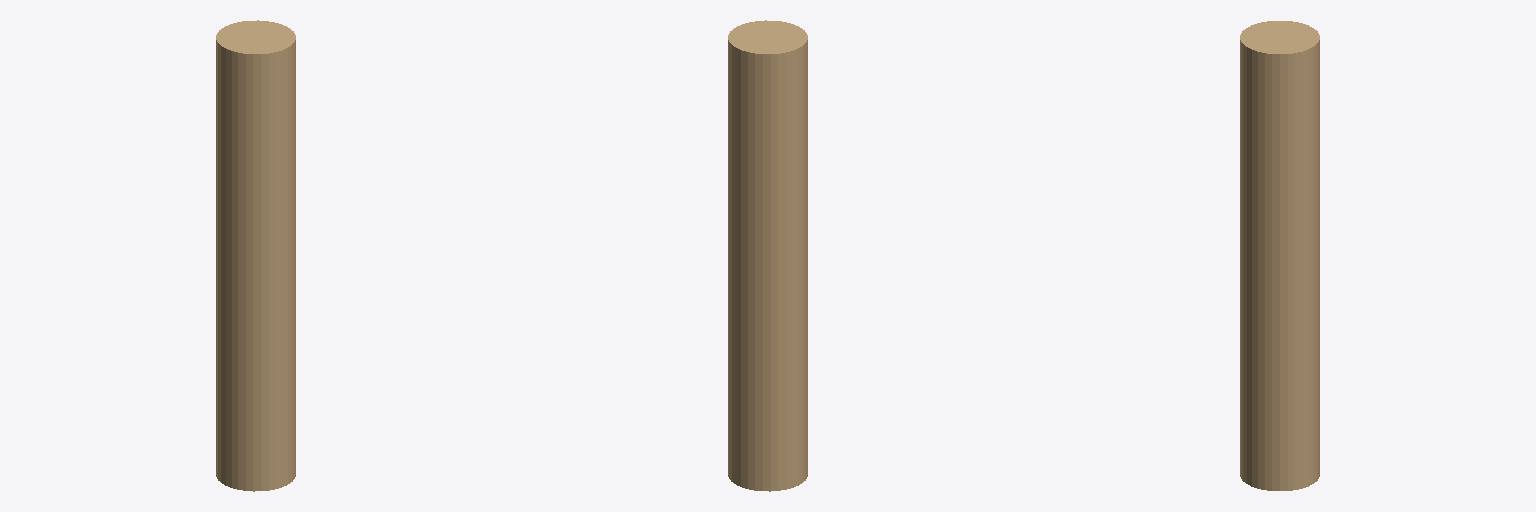
robot.urdf — floating_gripper:
<?xml version="1.0"?>
<robot name="floating_gripper">

  <link name="root"/>

  <link name="dummy_x">
    <inertial>
      <mass value="0.001"/>
      <inertia ixx="1e-6" iyy="1e-6" izz="1e-6"
               ixy="0.0"   ixz="0.0"   iyz="0.0"/>
    </inertial>
  </link>

  <joint name="joint_x" type="prismatic">
    <parent link="root"/>
    <child link="dummy_x"/>
    <axis xyz="1 0 0"/>
    <limit lower="-0.5" upper="0.5" effort="1000" velocity="10"/>
  </joint>

  <link name="gripper">
    <inertial>
      <mass value="2.0"/>
      <inertia ixx="5.0" iyy="5.0" izz="5.0"
               ixy="0.0"   ixz="0.0"   iyz="0.0"/>
    </inertial>
    <visual>
      <origin xyz="0 0 0" rpy="0 0 0"/>
      <geometry>
        <mesh filename="floating_gripper_cylinder.stl"/>
      </geometry>
      <material name="tan">
        <color rgba="0.82 0.71 0.55 1.0"/>
      </material>
    </visual>
    <collision>
      <origin xyz="0 0 0" rpy="0 0 0"/>
      <geometry>
        <mesh filename="floating_gripper_cylinder.stl"/>
      </geometry>
    </collision>
  </link>

  <joint name="joint_y" type="prismatic">
    <parent link="dummy_x"/>
    <child link="gripper"/>
    <axis xyz="0 1 0"/>
    <limit lower="-0.5" upper="0.5" effort="1000" velocity="10"/>
  </joint>

</robot>

--- What the picture shows (computed from the rendered views, not written in the file) ---
The picture shows the robot from 3 angles, left to right: view 1: azimuth 30°, elevation 25°; view 2: azimuth 150°, elevation 25°; view 3: azimuth 270°, elevation 25°; orthographic projection.
Robot: floating_gripper — 3 links, 2 joints (2 prismatic); root link root; default pose: all joints at 0.
Visible links, largest first — view 1: gripper; view 2: gripper; view 3: gripper.
Boxes of the visible links, left/top/right/bottom form: gripper: left=216, top=20, right=295, bottom=491; gripper: left=728, top=20, right=807, bottom=491; gripper: left=1240, top=21, right=1319, bottom=490.
Size in the robot's own frame: 0.02 by 0.02 by 0.12 metres.
Meshes: 1 distinct files referenced, 1 mesh visuals loaded (1 binary STL).
